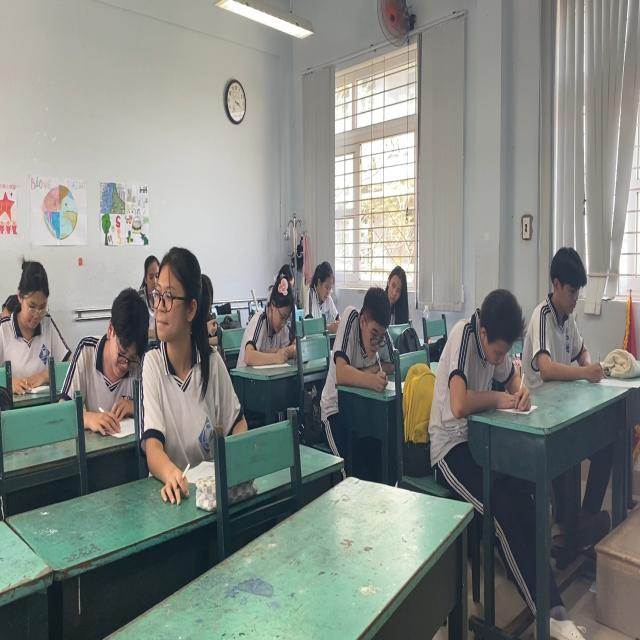cheating: (150, 243, 228, 457)
not_cheating: (67, 288, 150, 426), (436, 281, 523, 405), (535, 222, 596, 368), (4, 250, 62, 391), (333, 284, 399, 405), (247, 261, 298, 374), (300, 250, 346, 315), (380, 257, 416, 319)
